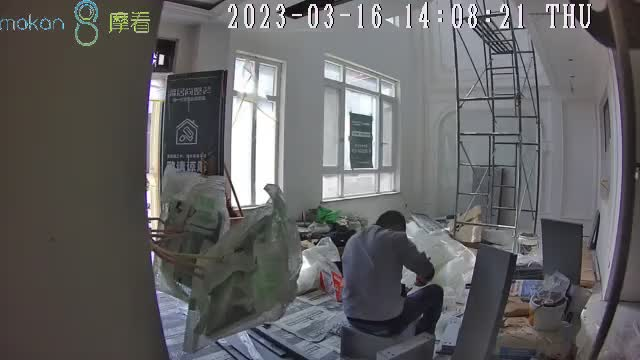people: (340, 210, 444, 338)
window: (322, 59, 397, 199), (230, 54, 280, 208)
